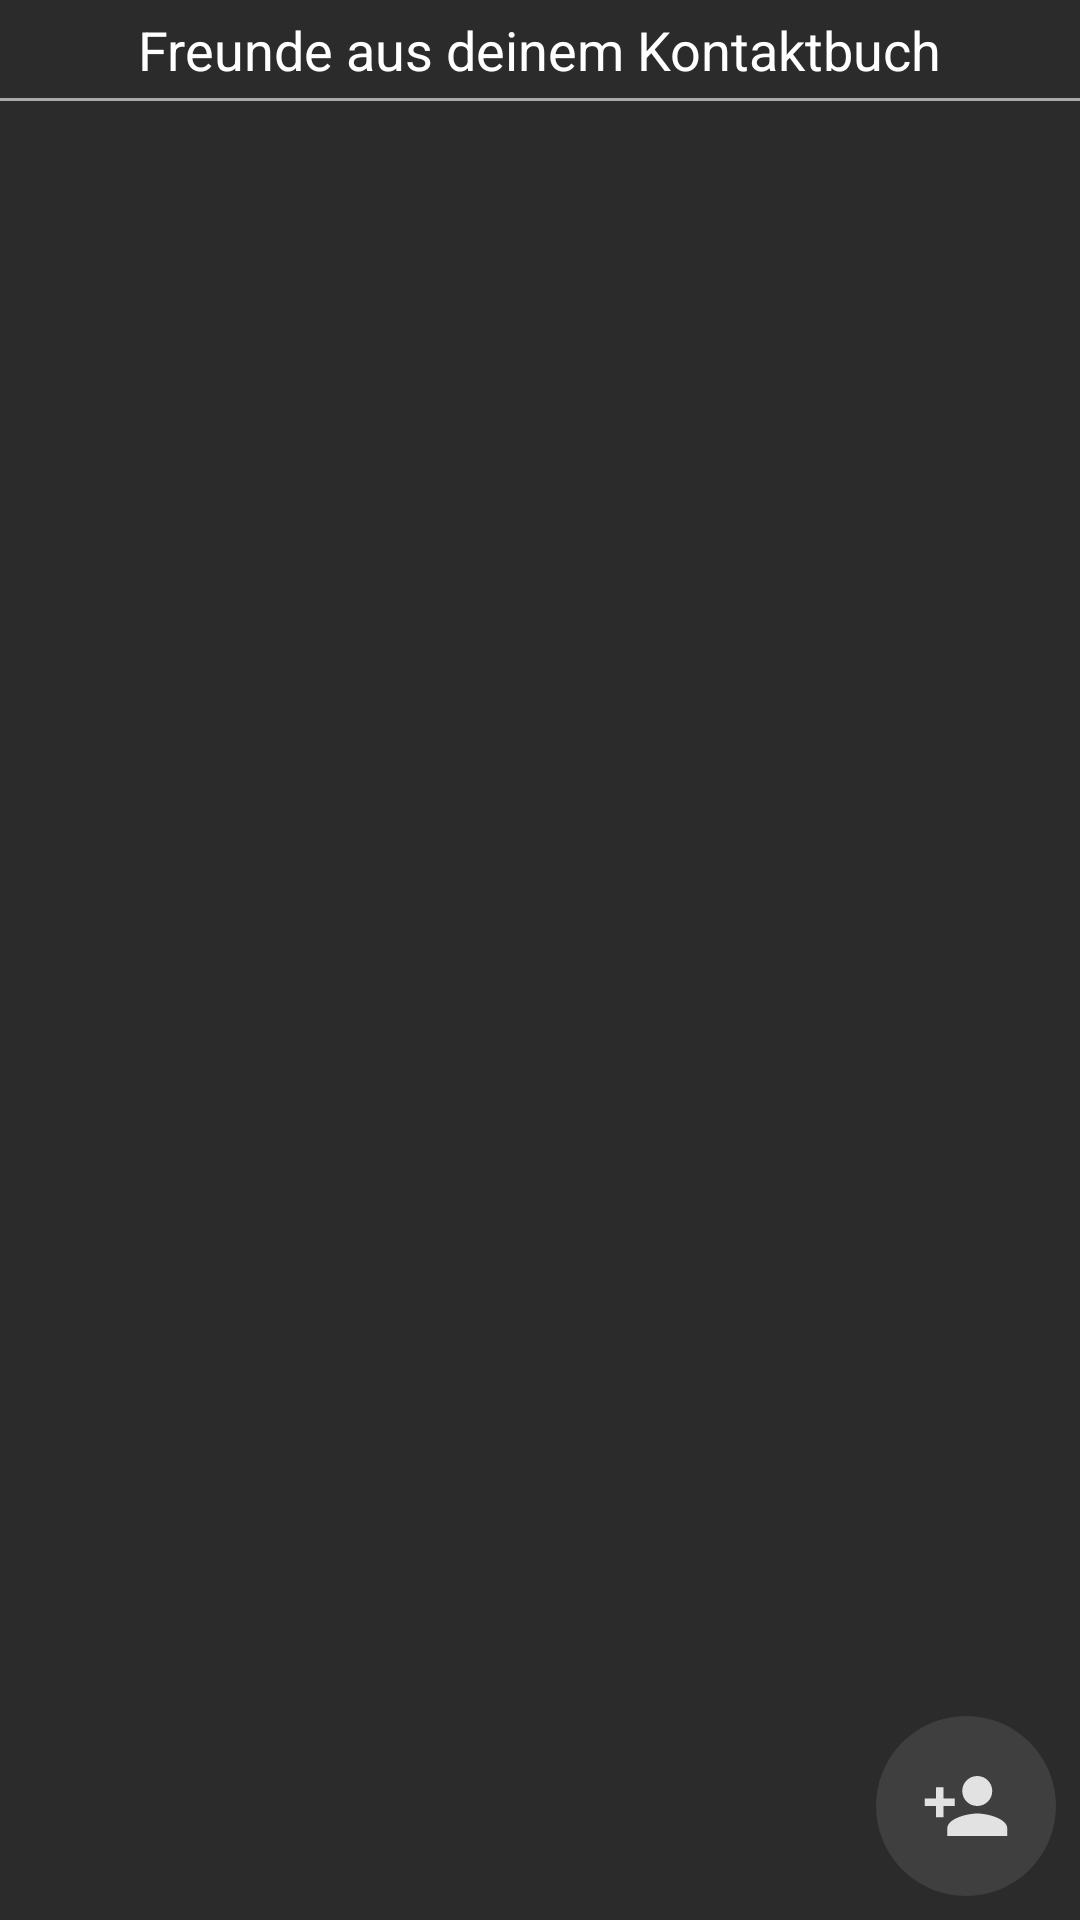

Point at icon controls on the screen. Image size 1080 × 1920, points as [x,y].
person add: [966,1806]
